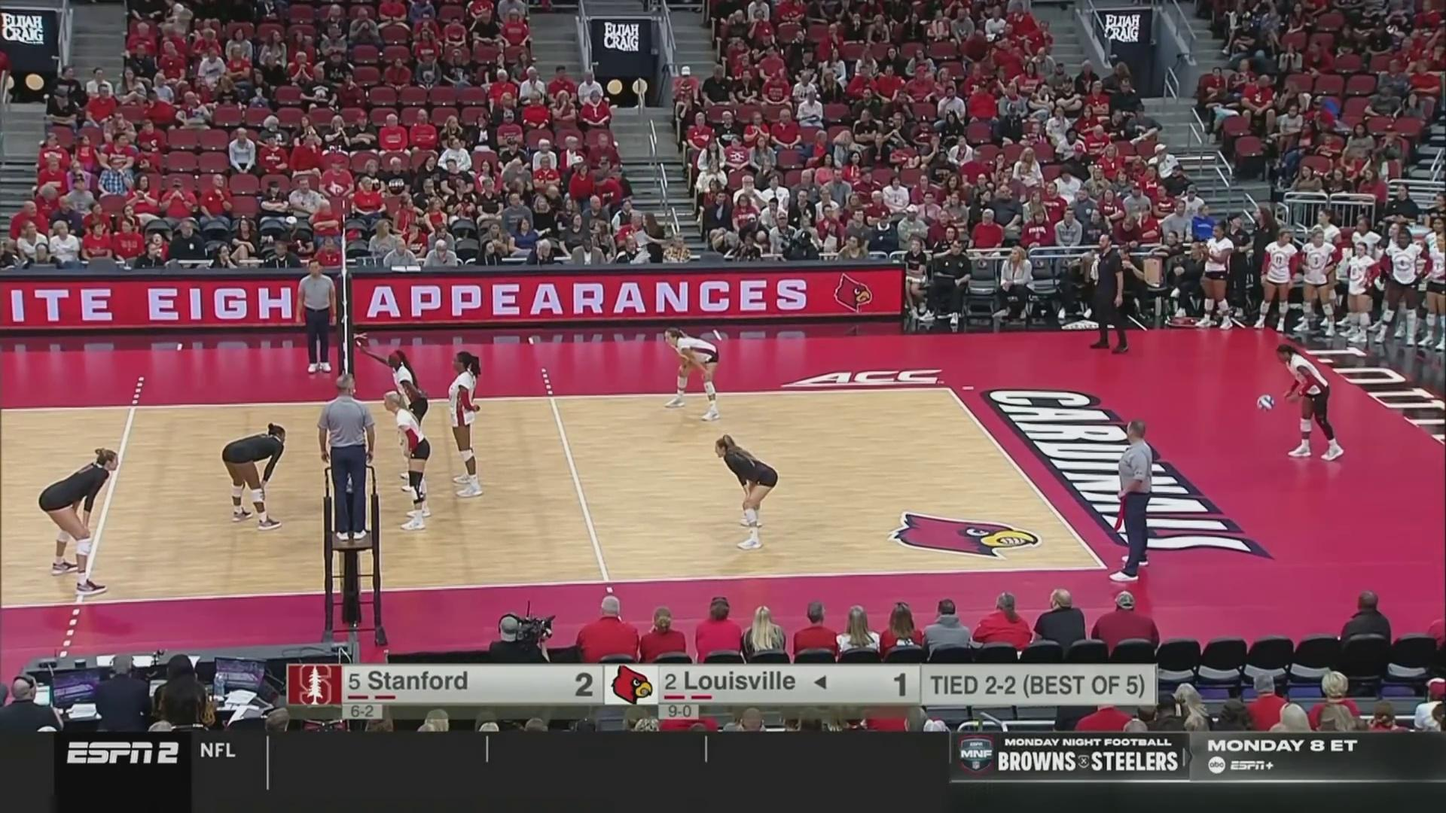player: (32, 448, 112, 583), (1274, 343, 1341, 460), (716, 435, 778, 551), (377, 354, 427, 491), (223, 422, 286, 525), (383, 394, 429, 530), (445, 353, 483, 500), (671, 334, 727, 421)
refree: (321, 375, 368, 543), (1114, 420, 1156, 583), (299, 259, 336, 373)
